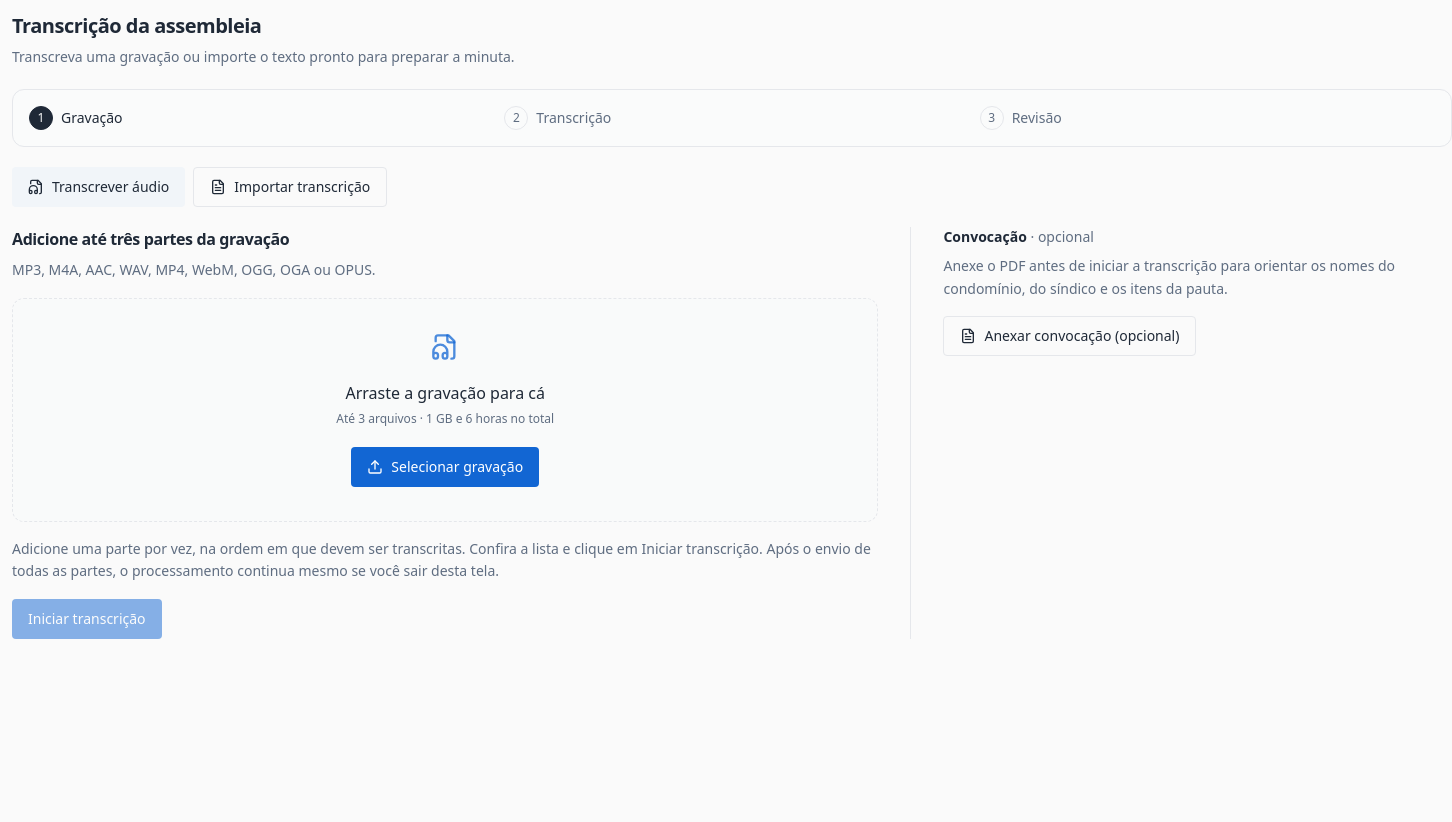
it: AtaTranscriptionPanel · importação › switches exclusively from audio to TXT/VTT and imports Zoom speech for review
Later steps or results of the test are not shown.
Click the button "Importar transcrição": {"x": 290, "y": 187} x1=193 y1=167 x2=387 y2=207
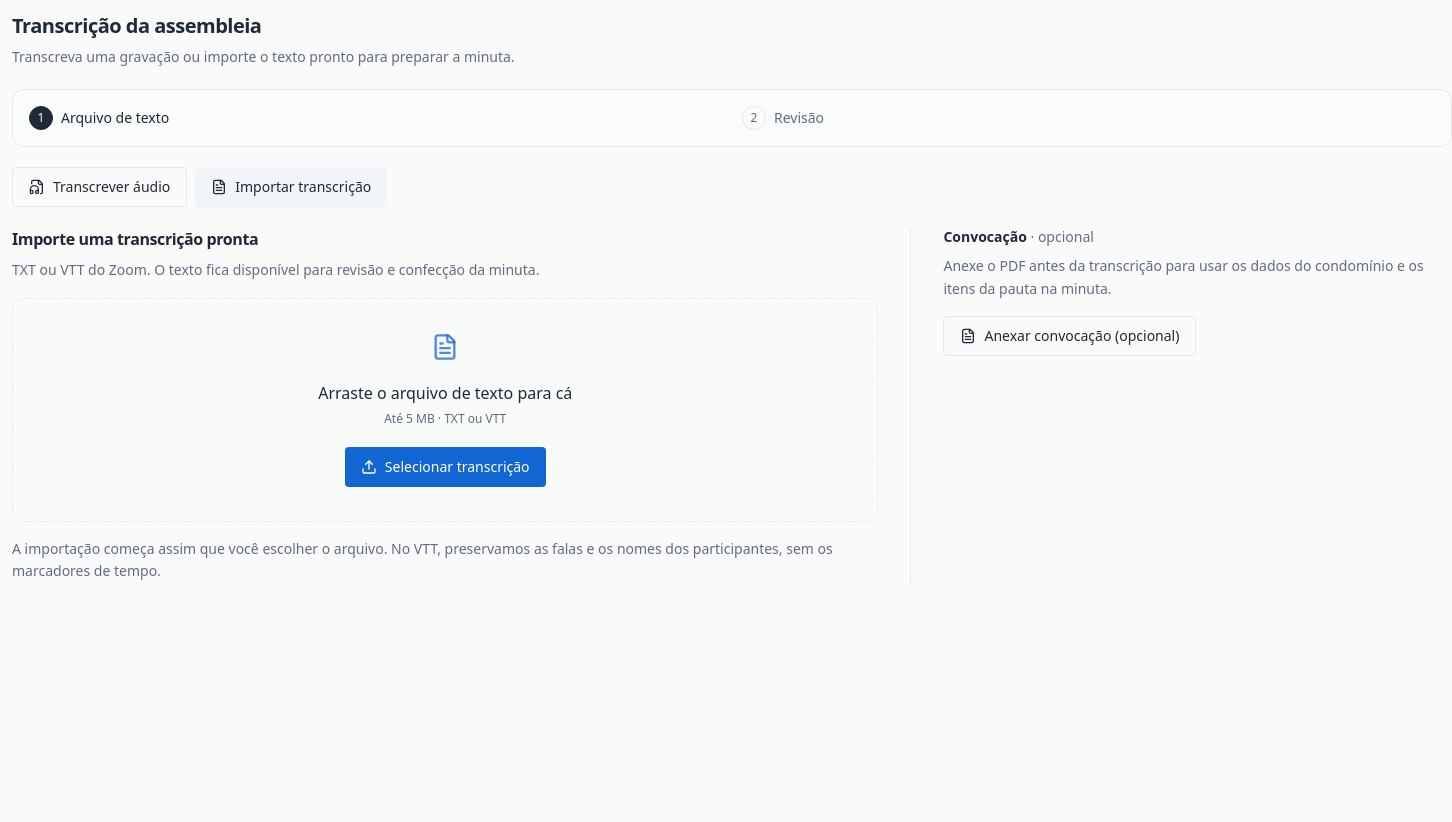
Expected: the button "Selecionar gravação" is gone
Expected: the text "VTT do Zoom" is shown, x1=12 y1=260 x2=539 y2=279
